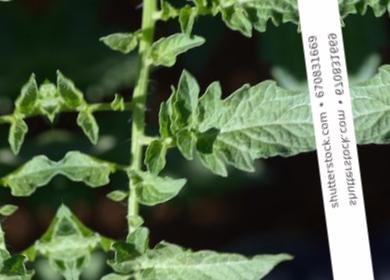Tomato leaf mosaic virus: (179, 77, 318, 188), (133, 221, 303, 280), (58, 143, 127, 196), (124, 162, 193, 213), (141, 27, 212, 73), (143, 141, 174, 179)
